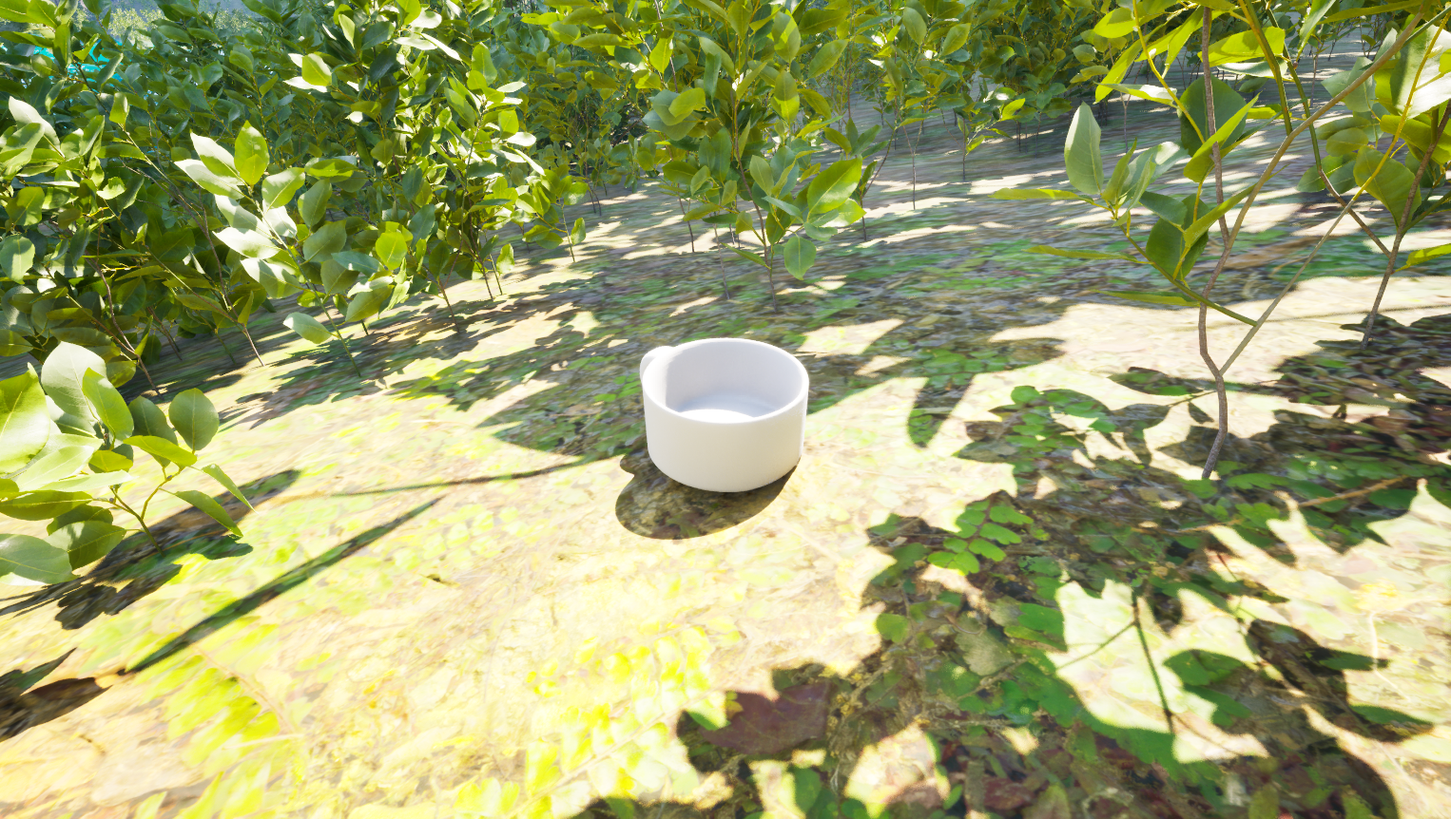Teacup: (632, 321, 834, 505)
